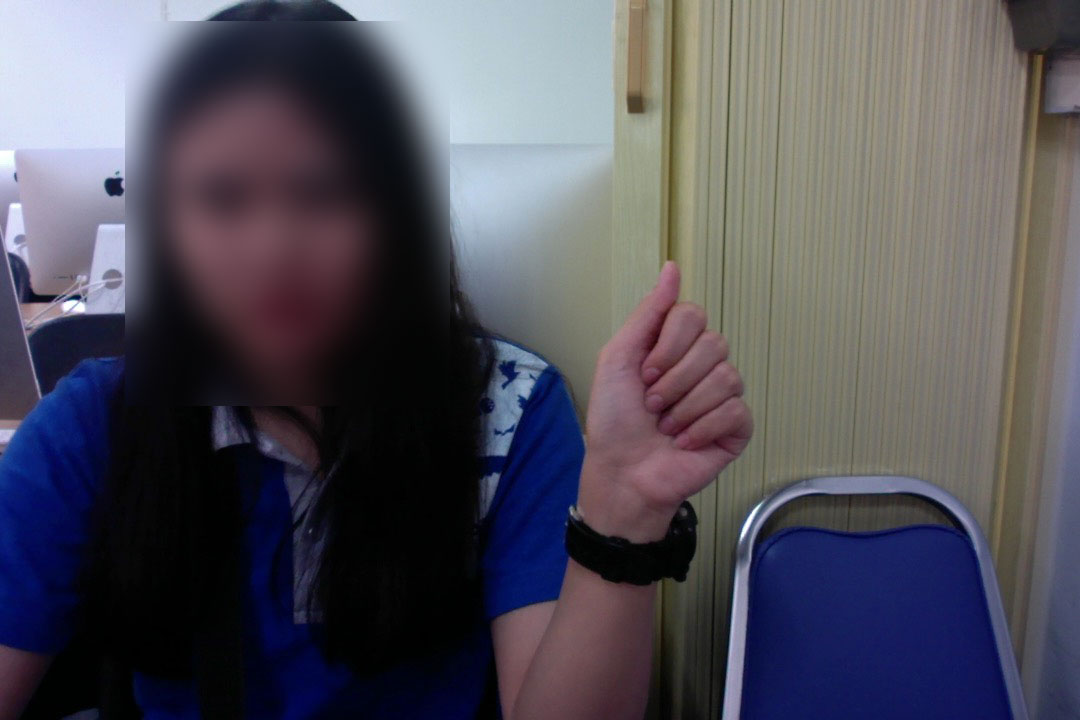or: (575, 253, 760, 511)
